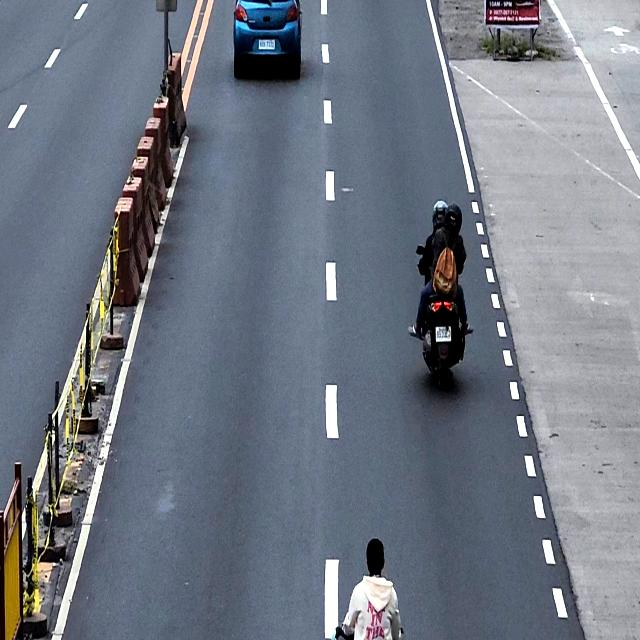Car: (233, 0, 302, 78)
License-Plate: (435, 325, 452, 342), (258, 38, 275, 50)
Motorcycle: (410, 244, 473, 389)
